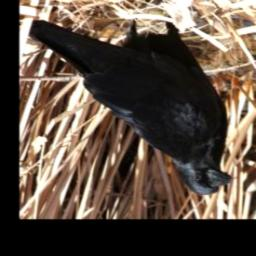Crow: (28, 19, 237, 197)
